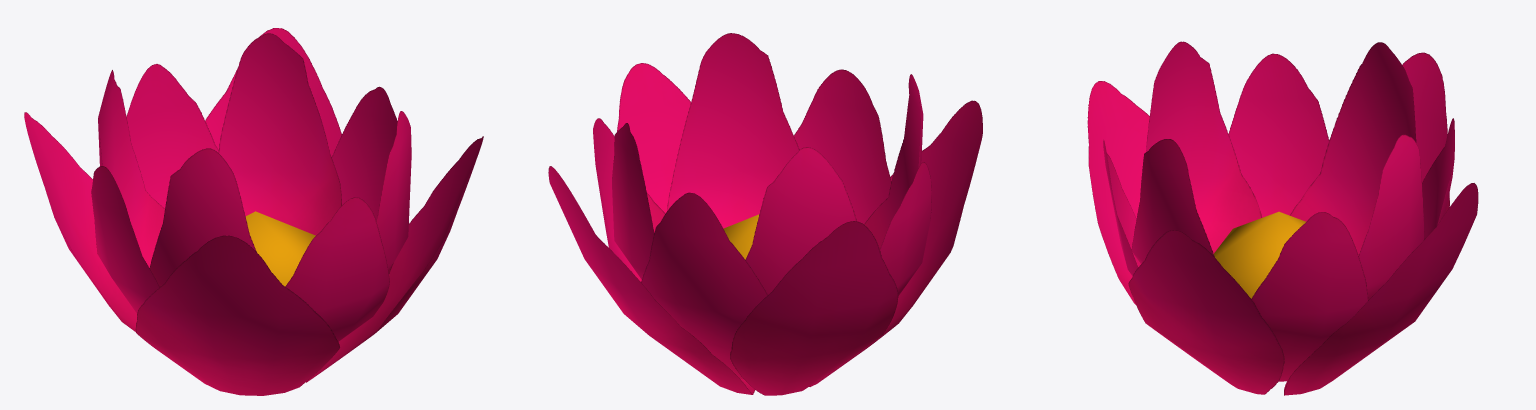
The model's file is LilyFlower.fbx.
3 renders of one model, left to right at view 1: azimuth 30°, elevation 25°; view 2: azimuth 150°, elevation 25°; view 3: azimuth 270°, elevation 25°, orthographic.
Parts seen in each view (by area): view 1: LilyFlower_LOD0; view 2: LilyFlower_LOD0; view 3: LilyFlower_LOD0.
Boxes of the visible parts, x1,y1,x2,y2 form: LilyFlower_LOD0: [24, 28, 483, 395]; LilyFlower_LOD0: [548, 33, 982, 395]; LilyFlower_LOD0: [1087, 41, 1478, 395].
Size of what is drawn, in the model's own units: 74.67 by 49.27 by 74.67.
1 material, 1 textured.
